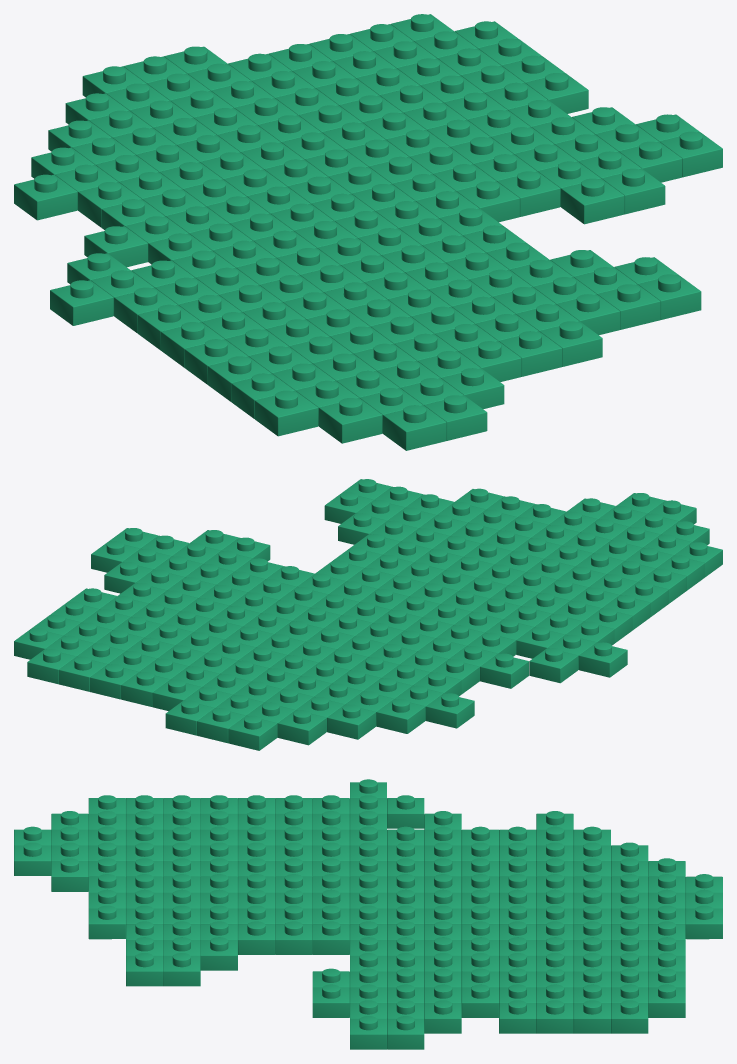
The model's file is WesternEurope.fbx.
3 renders of one model, top to bottom at view 1: azimuth 30°, elevation 25°; view 2: azimuth 150°, elevation 25°; view 3: azimuth 270°, elevation 25°, orthographic. The views are drawn at different scales.
Parts seen in each view (by area): view 1: Cube_147; view 2: Cube_147; view 3: Cube_147.
Part boxes in pixels (<box>): Cube_147: <box>14,14,722,450</box>; Cube_147: <box>14,479,722,750</box>; Cube_147: <box>14,779,722,1049</box>.
Size of the model in its own units: 1600 by 65.03 by 1900.
